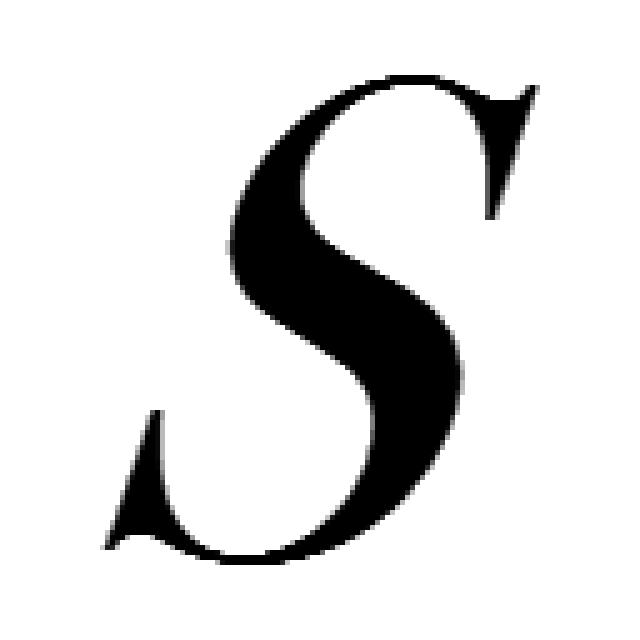S: (95, 60, 545, 570)
